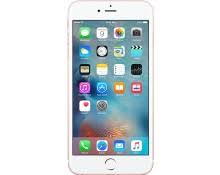iphone: (64, 1, 156, 175)
iphone6: (64, 1, 156, 175)
